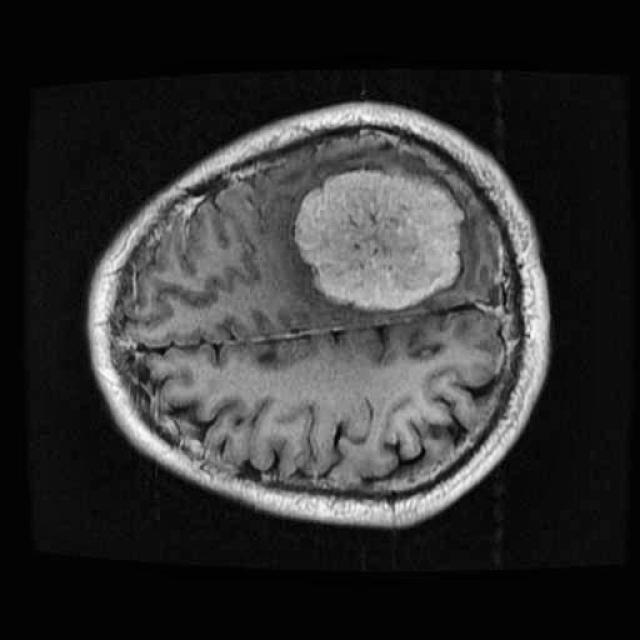Tumor: (286, 160, 475, 326)
